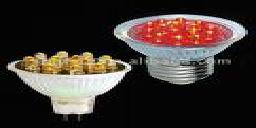LED: (8, 47, 128, 116), (122, 6, 241, 67)
